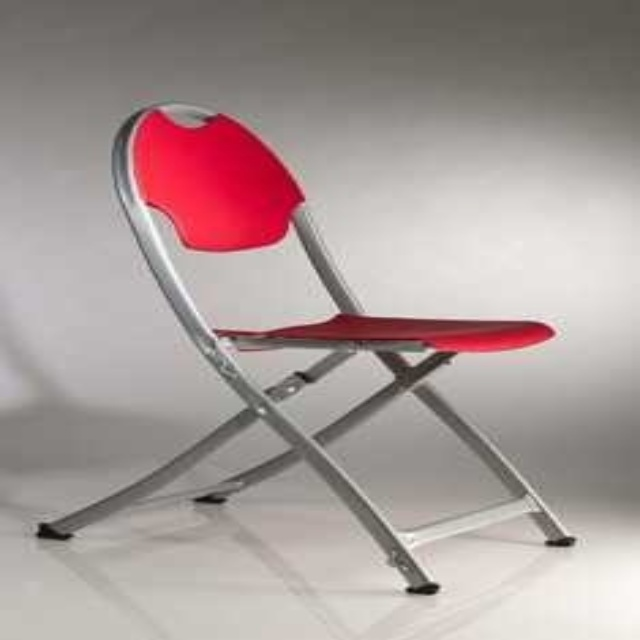obstacle: (38, 103, 572, 592)
